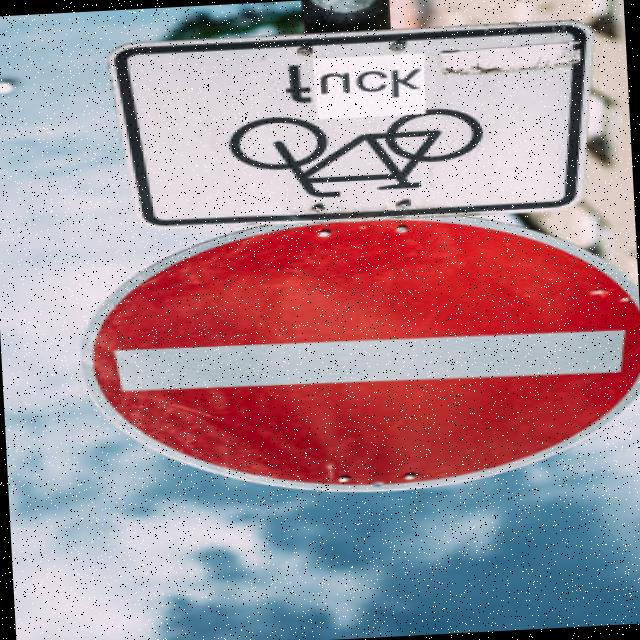do_not_enter: (57, 202, 640, 515)
